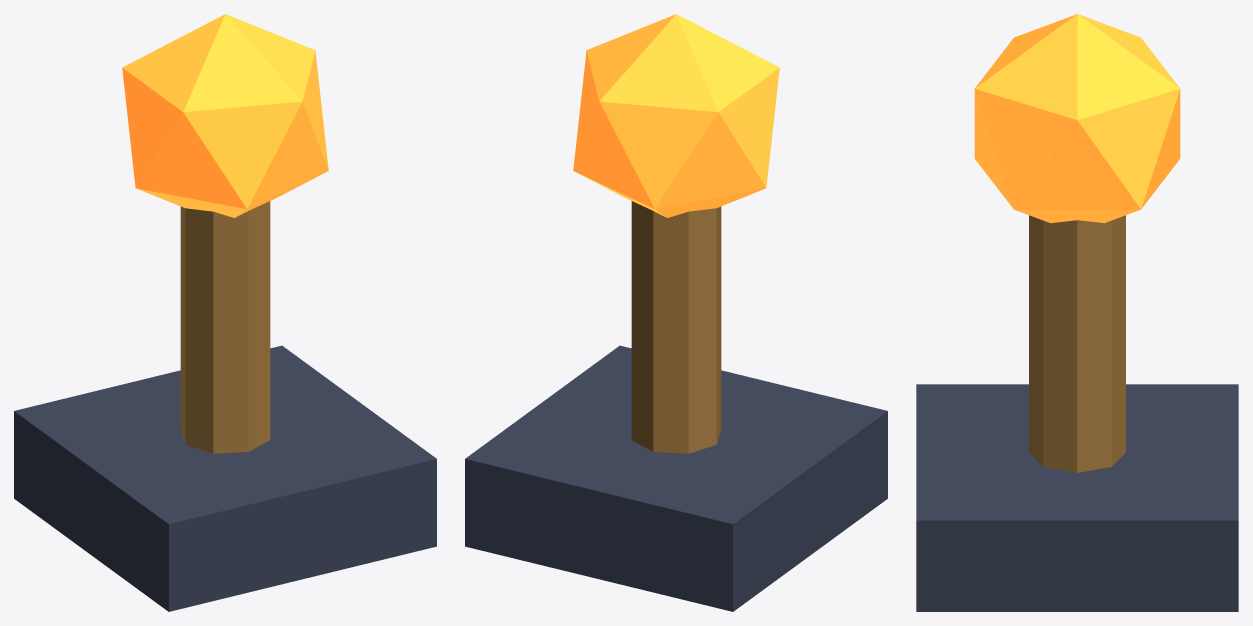
Rendered from oil_shrine.glb.
3 renders of one model, left to right at view 1: azimuth 30°, elevation 25°; view 2: azimuth 150°, elevation 25°; view 3: azimuth 270°, elevation 25°, orthographic. The views are drawn at different scales.
Parts seen in each view (by area): view 1: ShrineBase, OilGem, ShrineStem; view 2: ShrineBase, OilGem, ShrineStem; view 3: ShrineBase, OilGem, ShrineStem.
Boxes of the visible parts, x1,y1,x2,y2 form: ShrineBase: (14, 345, 436, 611); OilGem: (122, 14, 328, 217); ShrineStem: (180, 201, 270, 453); ShrineBase: (465, 345, 887, 611); OilGem: (573, 14, 779, 217); ShrineStem: (631, 201, 721, 453); ShrineBase: (916, 384, 1238, 611); OilGem: (974, 14, 1180, 223); ShrineStem: (1029, 215, 1125, 472).
Size of the model in its own units: 0.8 by 1.45 by 0.8.
